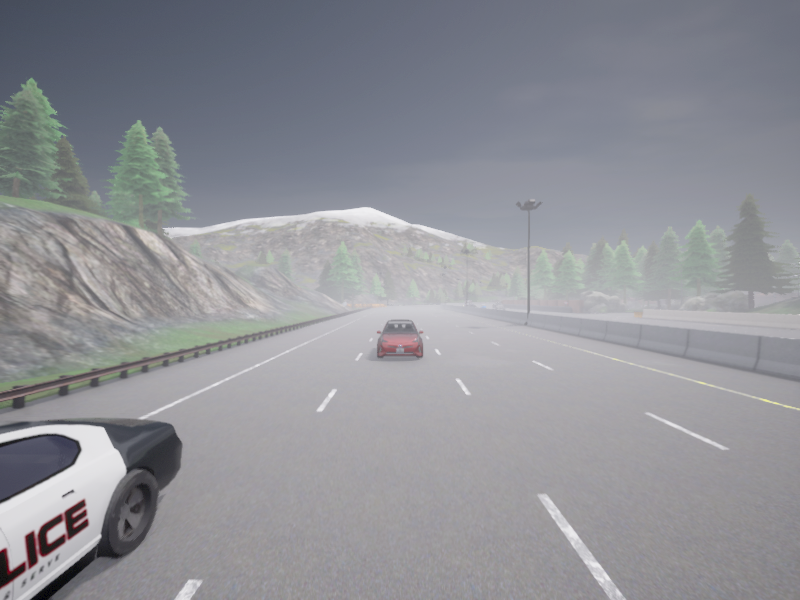vehicle: (0, 418, 182, 599), (376, 319, 423, 358), (492, 303, 503, 309), (465, 300, 471, 305), (480, 304, 485, 307), (467, 304, 474, 306), (500, 301, 501, 302)
